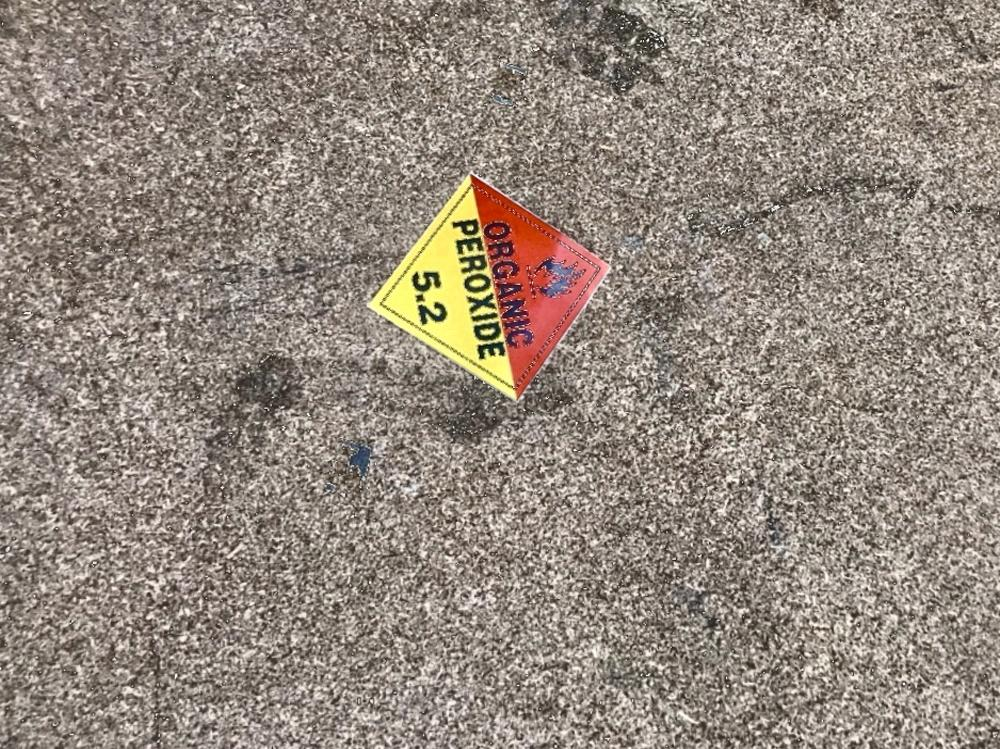organic-peroxide: (367, 174, 618, 405)
